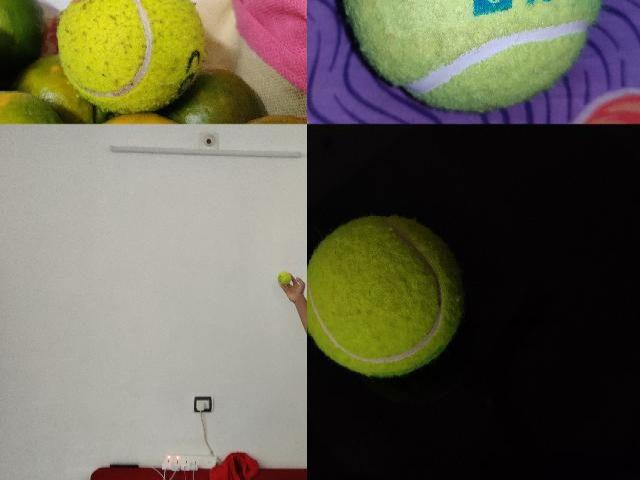tennis-ball: (339, 0, 601, 116), (307, 214, 464, 377), (56, 0, 206, 112), (277, 271, 291, 285)
